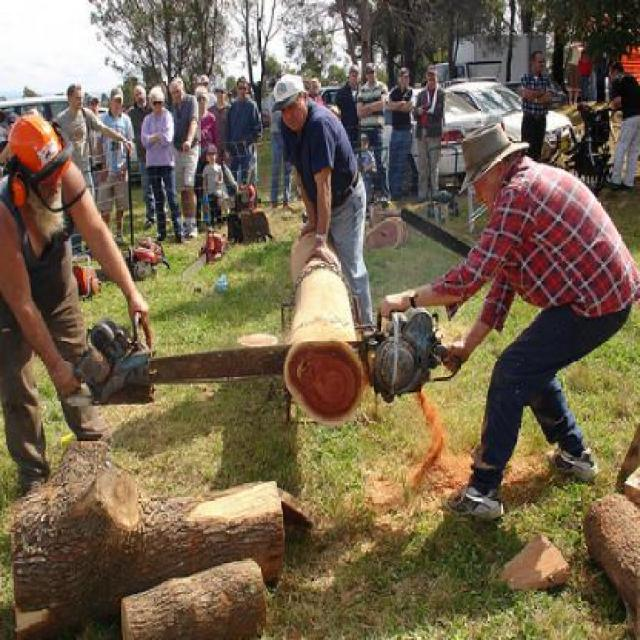Chainsaw: (74, 310, 458, 402)
